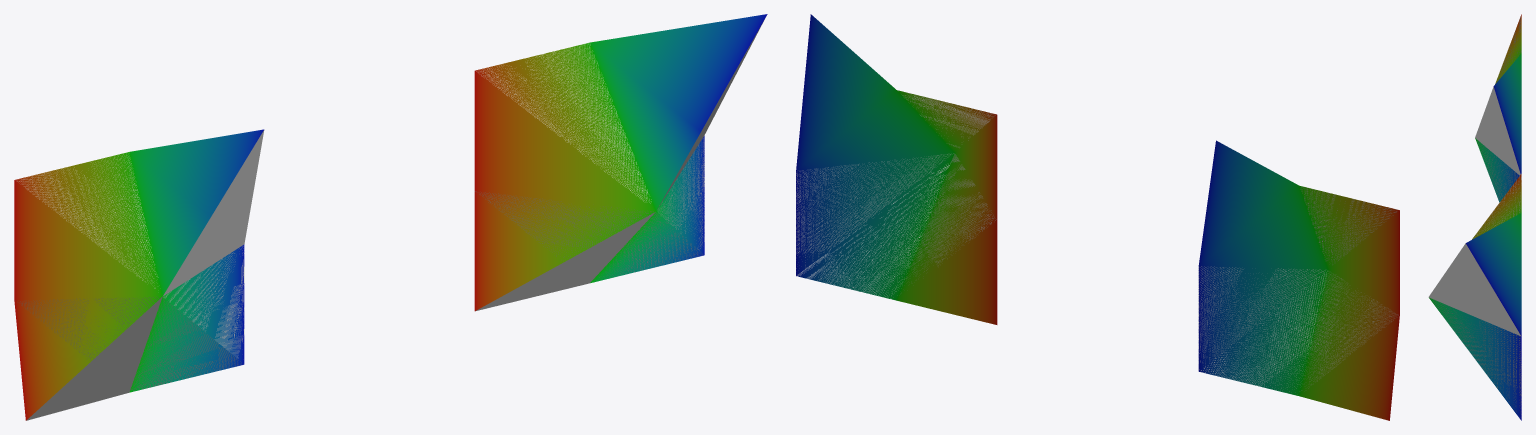
File: morph_sparse_modes.glb
The picture shows the model from 3 angles, left to right: view 1: azimuth 30°, elevation 25°; view 2: azimuth 150°, elevation 25°; view 3: azimuth 270°, elevation 25°; orthographic projection. The views are drawn at different scales.
Size of the model in its own units: 3.1 by 1.1 by 0.5.
